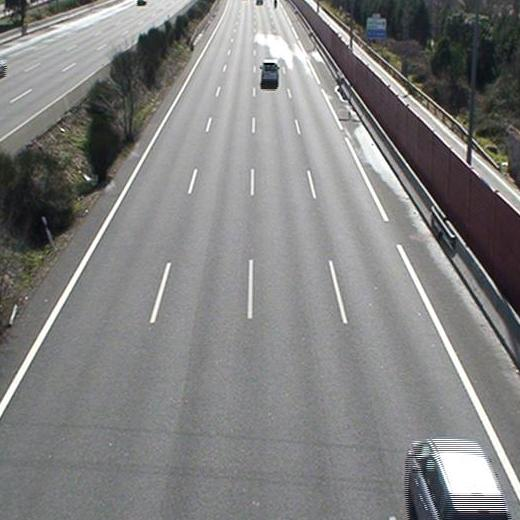car: (404, 435, 510, 516)
van: (260, 61, 280, 88)
